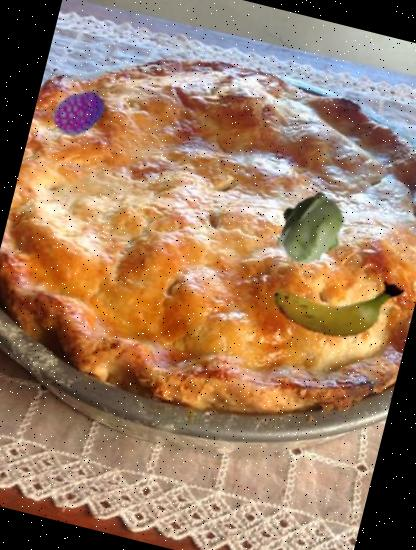Banana: (268, 230, 407, 369)
Kohlrabi: (265, 184, 357, 276)
Raspberry: (46, 80, 111, 145)
